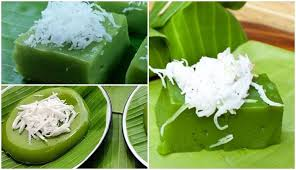kanompiakpoon: (155, 53, 287, 154), (12, 1, 139, 83), (3, 88, 92, 165)
